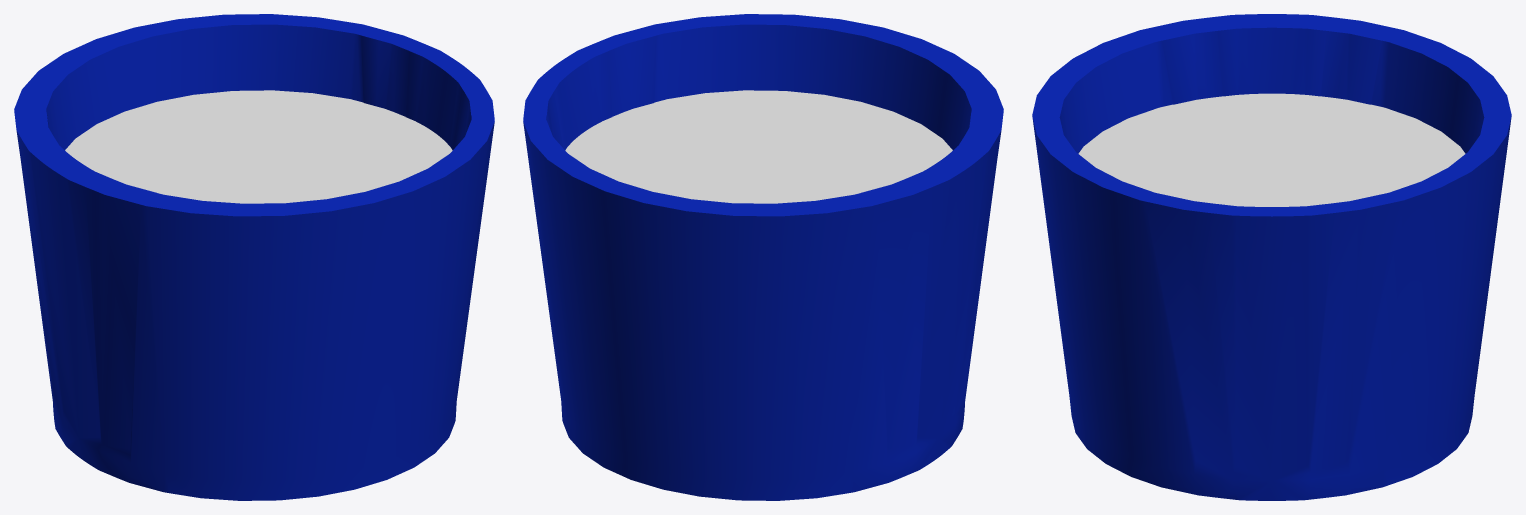
File: PaintBucket.FBX
3 renders of one model, left to right at view 1: azimuth 30°, elevation 25°; view 2: azimuth 150°, elevation 25°; view 3: azimuth 270°, elevation 25°, orthographic.
Parts seen in each view (by area): view 1: PaintBucket, Paint; view 2: PaintBucket, Paint; view 3: PaintBucket, Paint.
Boxes of the visible parts, x1,y1,x2,y2 form: PaintBucket: (14, 14, 494, 500); Paint: (65, 90, 452, 203); PaintBucket: (523, 14, 1003, 500); Paint: (565, 90, 952, 203); PaintBucket: (1032, 14, 1511, 500); Paint: (1078, 93, 1465, 206).
Bounding box in the file's own units: 22.74 × 15.76 × 22.75.
